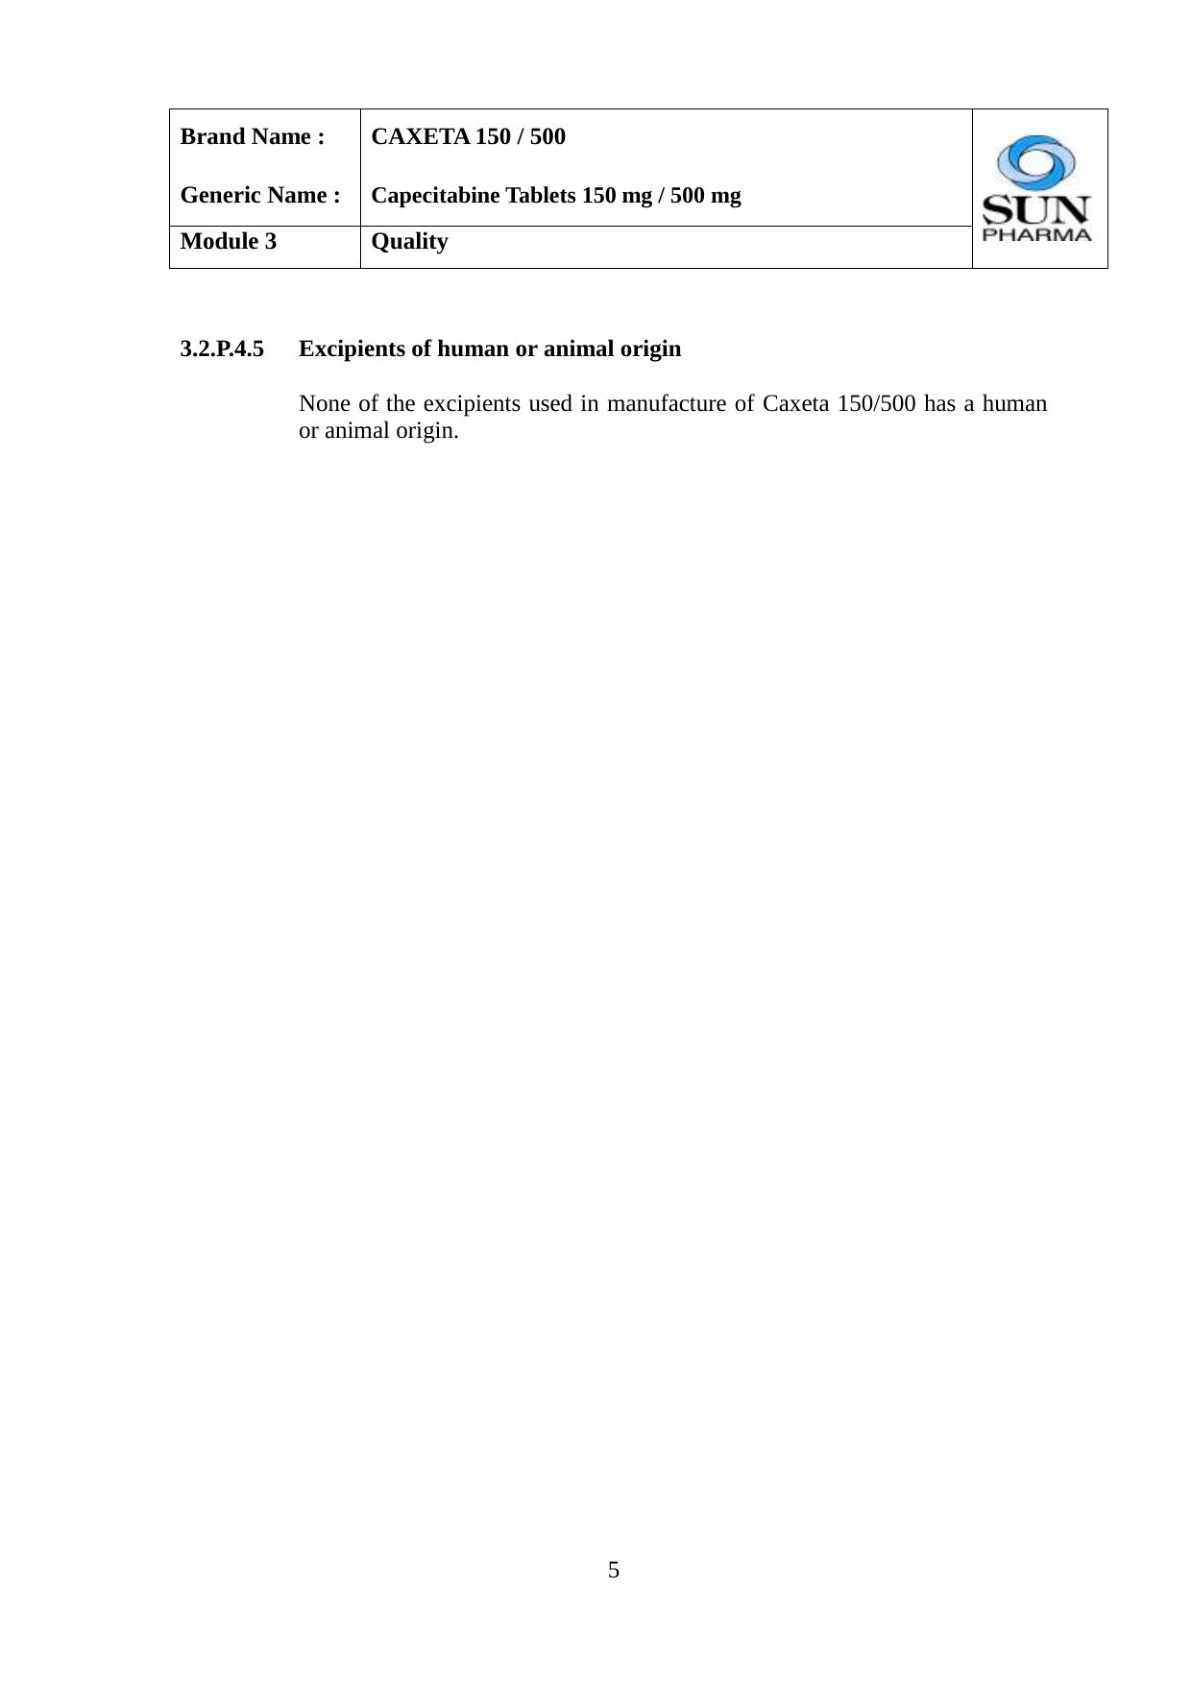merged_cells: (166, 104, 1109, 269)
